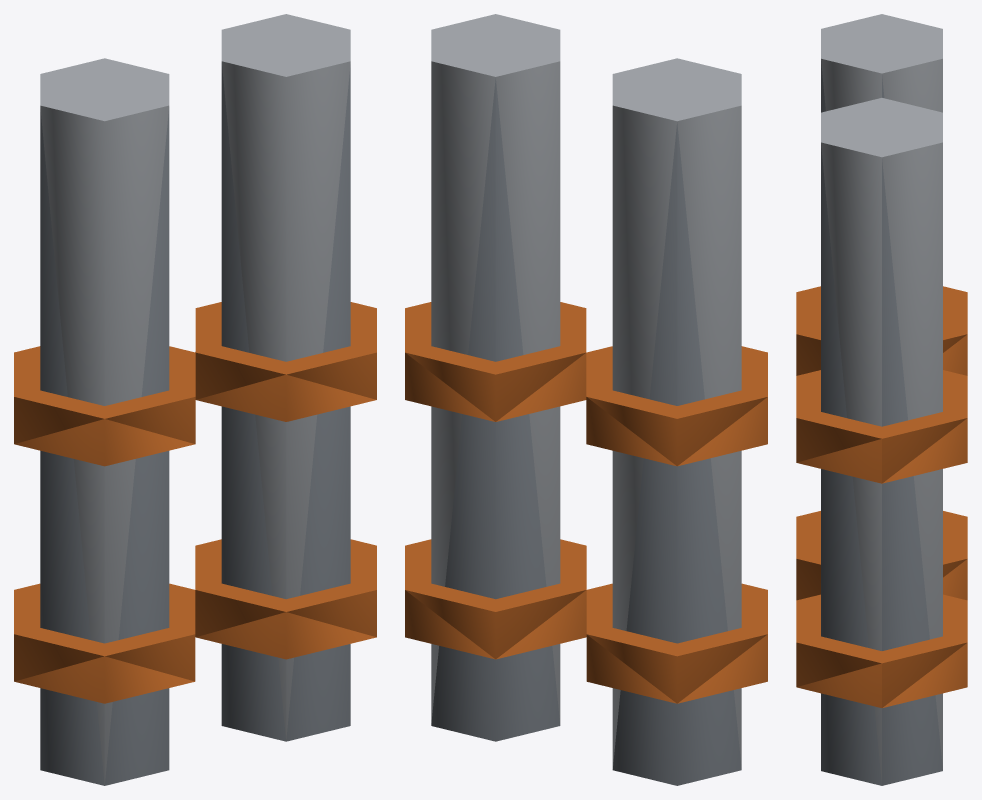
Rendered from Kit_wall-detail.fbx.
3 views of the same model, side by side, from view 1: azimuth 30°, elevation 25°; view 2: azimuth 150°, elevation 25°; view 3: azimuth 270°, elevation 25° (orthographic). The views are drawn at different scales.
Visible parts, largest first — view 1: Kit_wall-detail; view 2: Kit_wall-detail; view 3: Kit_wall-detail.
Part boxes in pixels (x1=…): Kit_wall-detail: x1=14, y1=14, x2=376, y2=785; Kit_wall-detail: x1=405, y1=14, x2=767, y2=785; Kit_wall-detail: x1=796, y1=14, x2=967, y2=785.
Size of the model in its own units: 0.4 by 0.7 by 0.1732.
